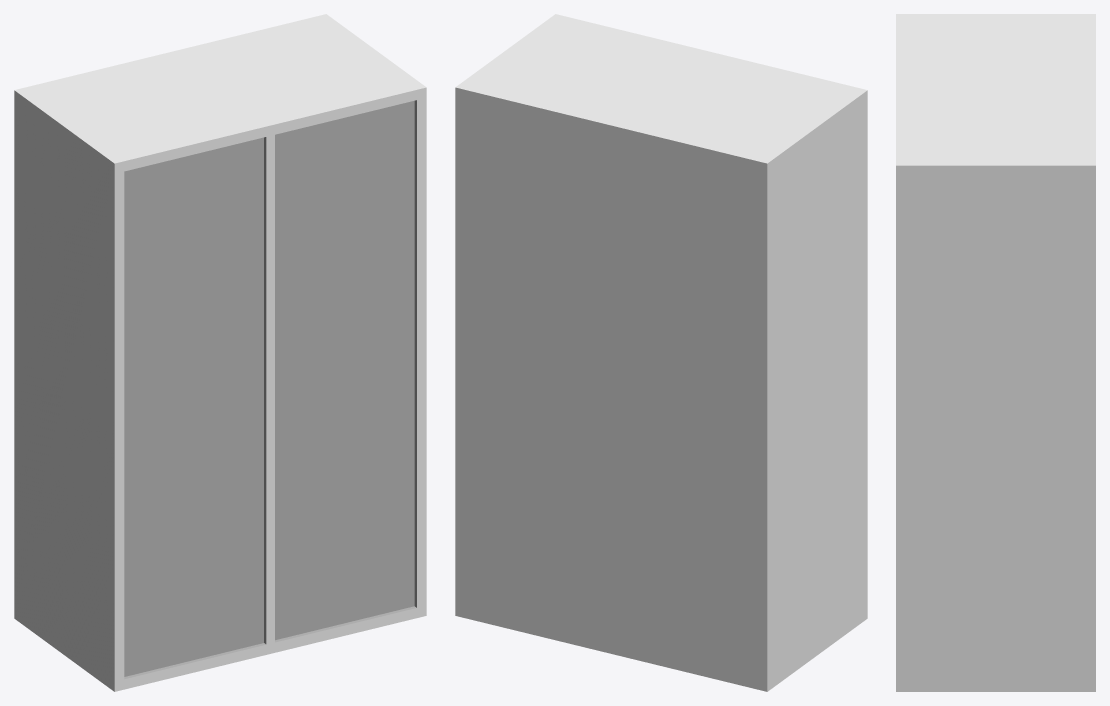
The model's file is SM_RoofElement_02.FBX.
3 renders of one model, left to right at view 1: azimuth 30°, elevation 25°; view 2: azimuth 150°, elevation 25°; view 3: azimuth 270°, elevation 25°, orthographic.
Visible parts, largest first — view 1: SM_RoofElement_02; view 2: SM_RoofElement_02; view 3: SM_RoofElement_02.
Boxes of the visible parts, <box> form: SM_RoofElement_02: <box>14,14,426,691</box>; SM_RoofElement_02: <box>455,14,867,691</box>; SM_RoofElement_02: <box>896,14,1095,691</box>.
Bounding box in the file's own units: 1.36 × 2.2 × 0.757.
Materials: 1 (1 with a texture image).
